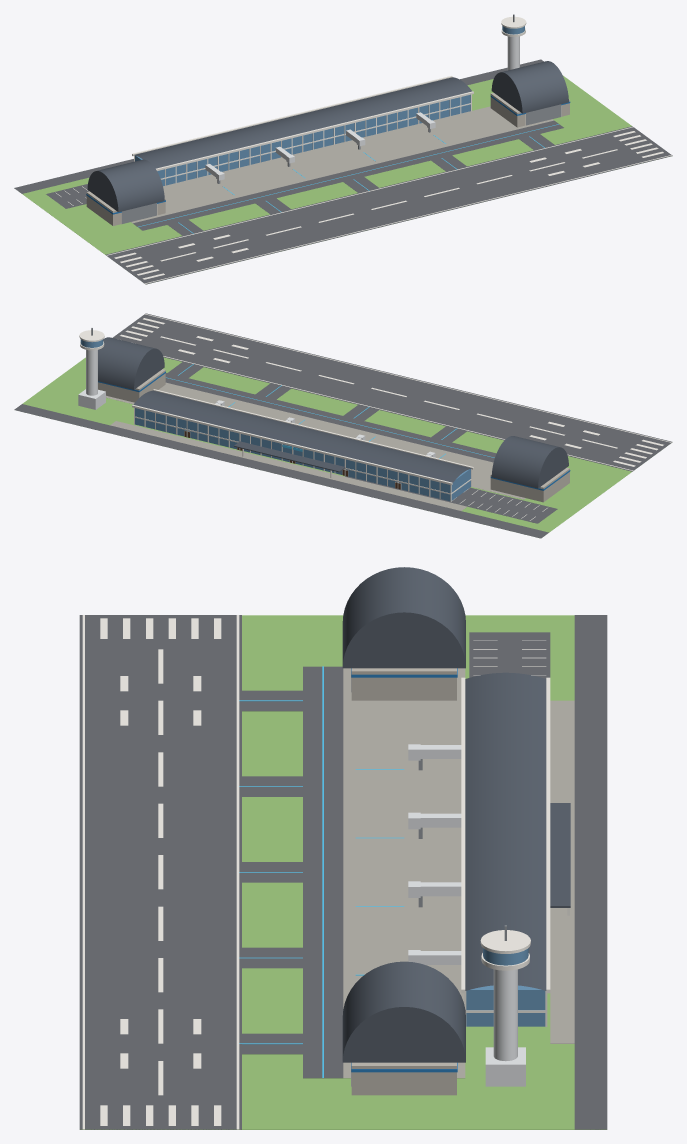
The model's file is airport.glb.
3 renders of one model, top to bottom at view 1: azimuth 30°, elevation 25°; view 2: azimuth 150°, elevation 25°; view 3: azimuth 270°, elevation 25°, orthographic. The views are drawn at different scales.
Parts seen in each view (by area): view 1: runway, lawn, apron, terminal_roof, hangar_roof (×2), terminal, taxiway, roof_edge (×2), hangar (×2), runway_marking (×2), drop_off_road, garage_door (×2) (+4 smaller); view 2: runway, lawn, terminal_roof, hangar_roof (×2), terminal, drop_off_road, apron, taxiway, forecourt, car_park, hangar (×2), roof_edge (×2) (+6 smaller); view 3: runway, lawn, apron, terminal_roof, taxiway (×6), hangar_roof (×2), drop_off_road, hangar (×2), forecourt, runway_marking (×2), car_park, roof_edge (×2) (+6 smaller).
Boxes of the visible parts, x1,y1,x2,y2 form: runway: [105, 126, 672, 284]; lawn: [22, 75, 657, 281]; apron: [131, 106, 553, 223]; terminal_roof: [133, 77, 472, 168]; hangar_roof (×2): [87, 61, 568, 212]; terminal: [135, 94, 470, 186]; taxiway: [133, 120, 563, 230]; roof_edge (×2): [132, 76, 473, 170]; hangar (×2): [86, 93, 569, 225]; runway_marking (×2): [106, 127, 671, 283]; drop_off_road: [14, 59, 543, 193]; garage_door (×2): [122, 104, 561, 223]; runway: [112, 313, 672, 471]; lawn: [22, 357, 632, 538]; terminal_roof: [133, 390, 471, 482]; hangar_roof (×2): [98, 337, 568, 488]; terminal: [135, 408, 470, 501]; drop_off_road: [14, 404, 548, 538]; apron: [106, 382, 525, 499]; taxiway: [165, 373, 496, 462]; forecourt: [110, 421, 466, 510]; car_park: [345, 476, 557, 523]; hangar (×2): [98, 369, 569, 502]; roof_edge (×2): [132, 389, 473, 485]; runway: [79, 615, 241, 1129]; lawn: [80, 615, 606, 1129]; apron: [343, 668, 465, 1078]; terminal_roof: [465, 672, 546, 990]; taxiway (×6): [242, 666, 343, 1078]; hangar_roof (×2): [342, 567, 465, 1062]; drop_off_road: [574, 615, 607, 1129]; hangar (×2): [351, 668, 456, 1095]; forecourt: [550, 700, 574, 1043]; runway_marking (×2): [82, 615, 239, 1129]; car_park: [469, 632, 550, 678]; roof_edge (×2): [461, 677, 550, 993].
Size of the model in its own units: 300 by 41.48 by 130.
